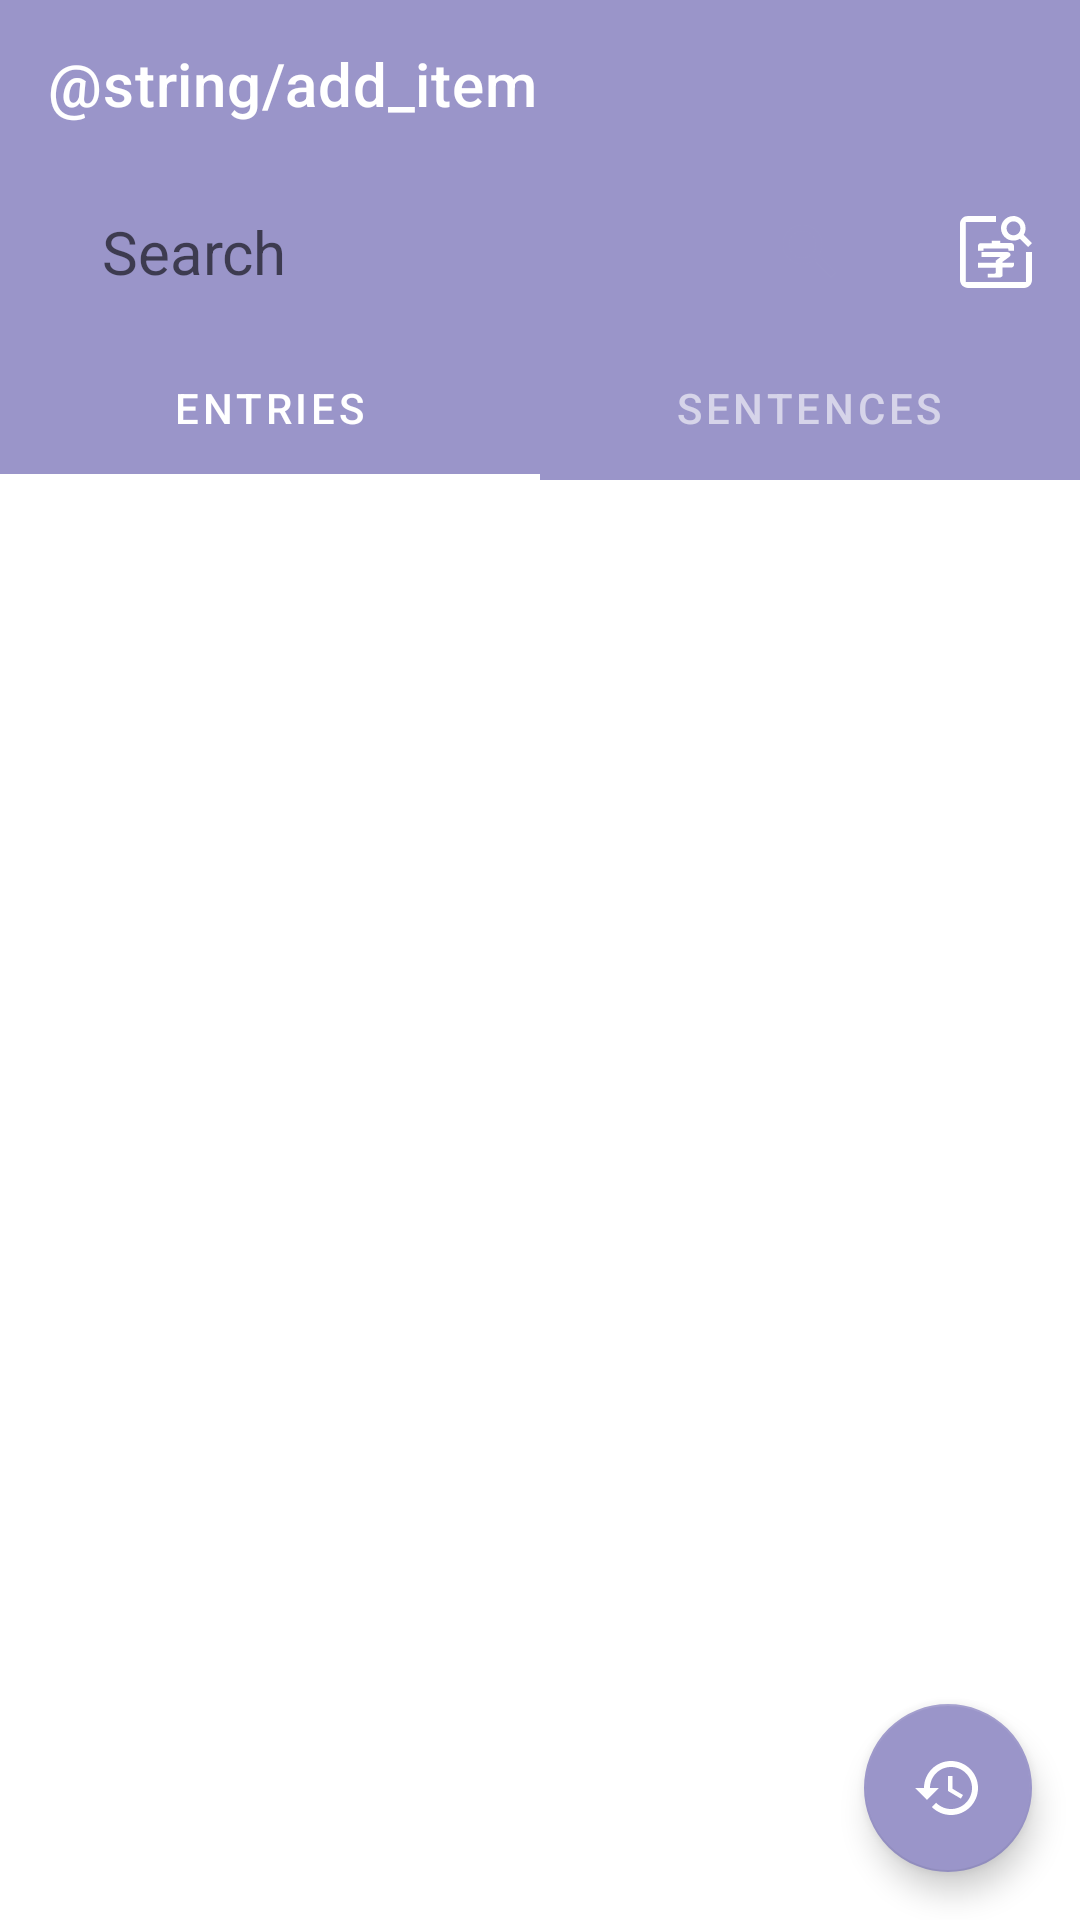

Screen size 1080×1920. Icon name, then its box in pixels as [left=x1, top=y1, right=x2, bottom=y2]:
History: [left=864, top=1704, right=1032, bottom=1872]
radical search: [left=960, top=216, right=1032, bottom=288]
